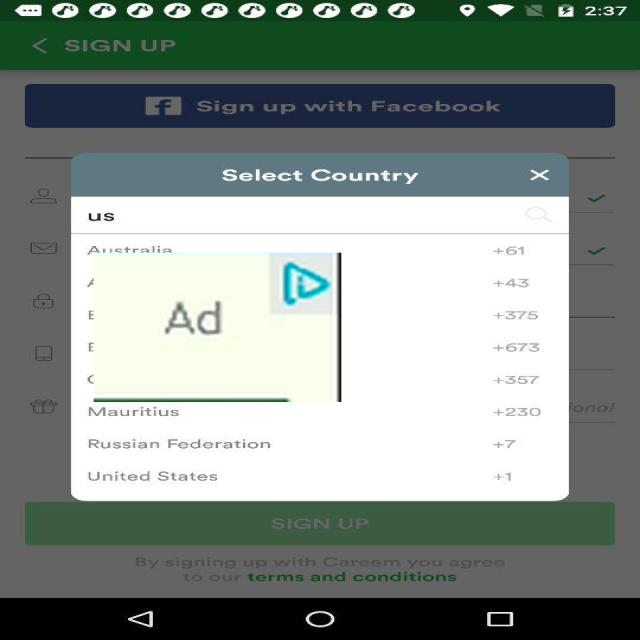sneaking: (94, 253, 341, 402)
